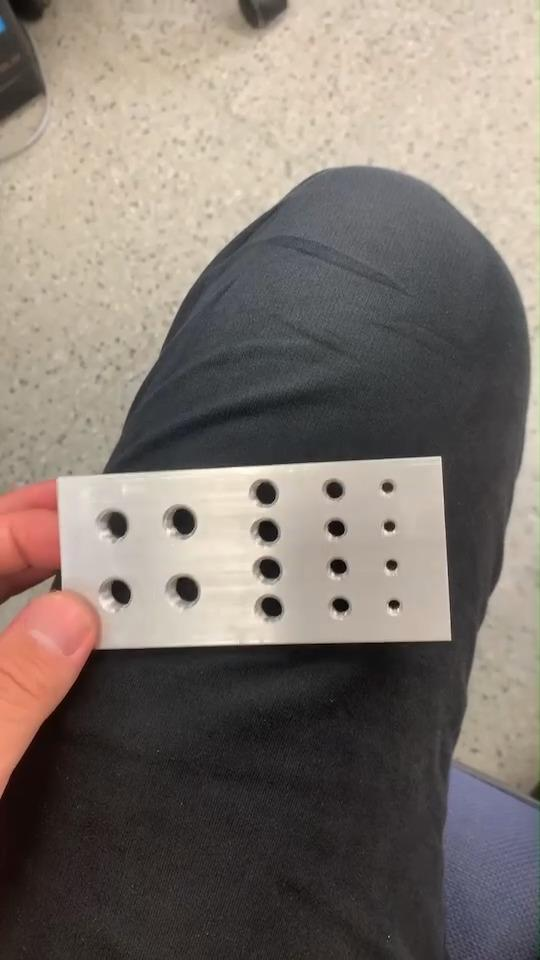hole: (85, 506, 134, 551), (159, 500, 204, 545), (162, 573, 206, 617), (96, 575, 135, 617), (247, 476, 283, 511), (250, 594, 287, 627), (245, 517, 284, 548), (250, 555, 284, 587), (322, 594, 357, 624), (320, 473, 350, 505), (322, 515, 351, 546), (322, 554, 353, 582), (376, 473, 398, 503), (380, 516, 402, 538), (382, 554, 400, 580), (384, 596, 403, 618)
